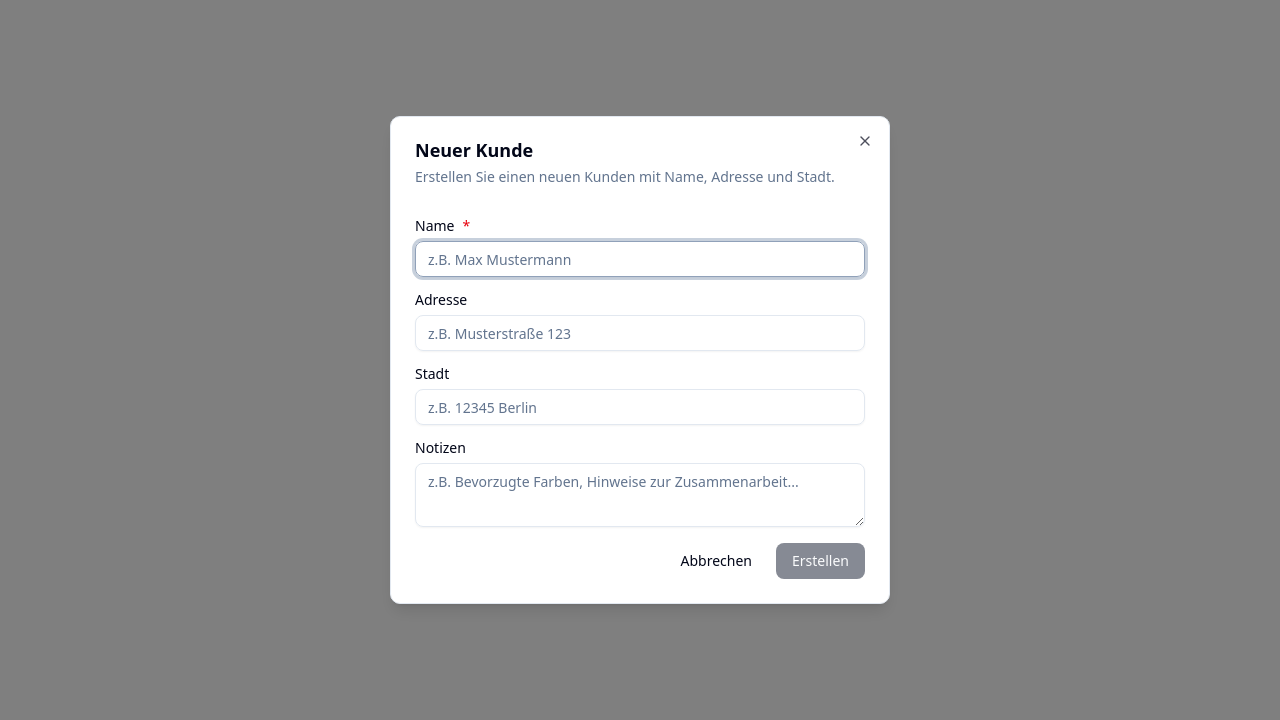
CustomerDialog › disables submit button when name is empty
This screenshot has width=1280, height=720.
expect the button "Erstellen" is disabled: met, box [776,543,865,579]
Step 1. Type "Test Name" into the field labelled "Name *" → [640, 259], box [415,241,865,277]
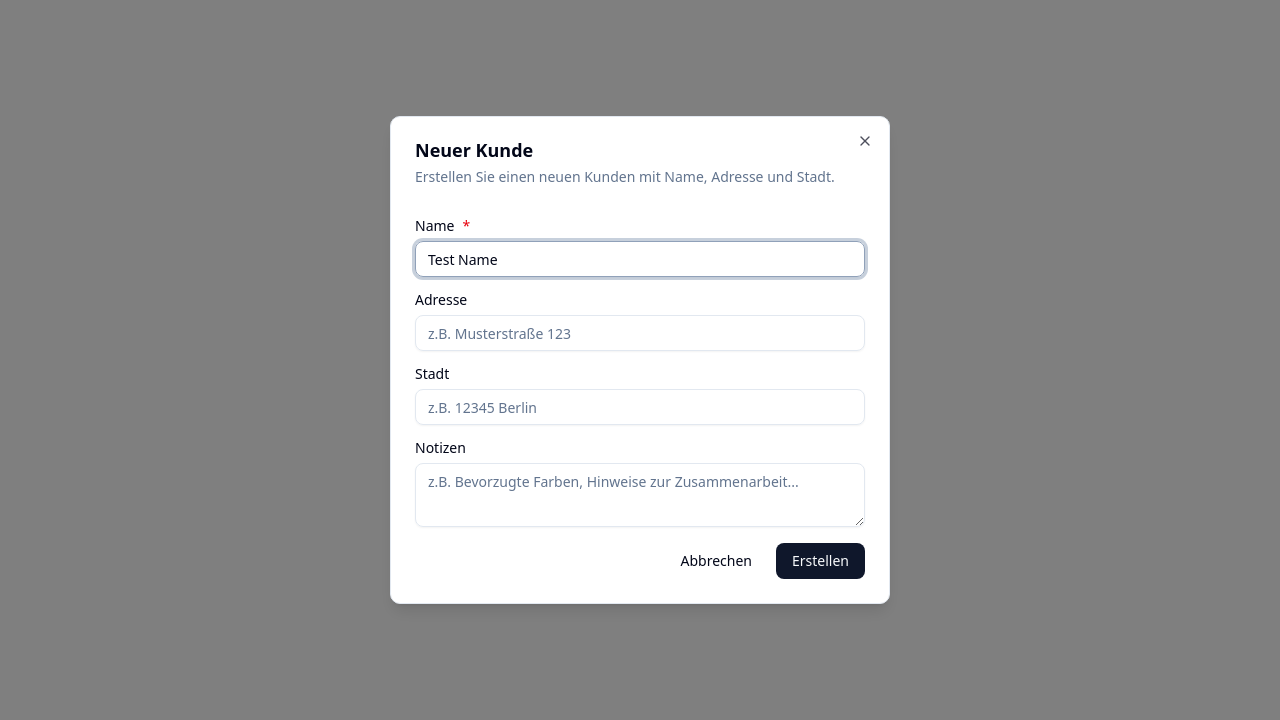
expect the button "Erstellen" is enabled: met, box [776,543,865,579]
